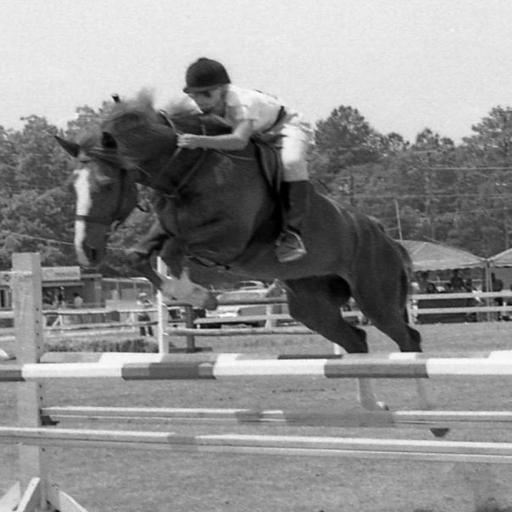horse: (50, 84, 452, 439)
